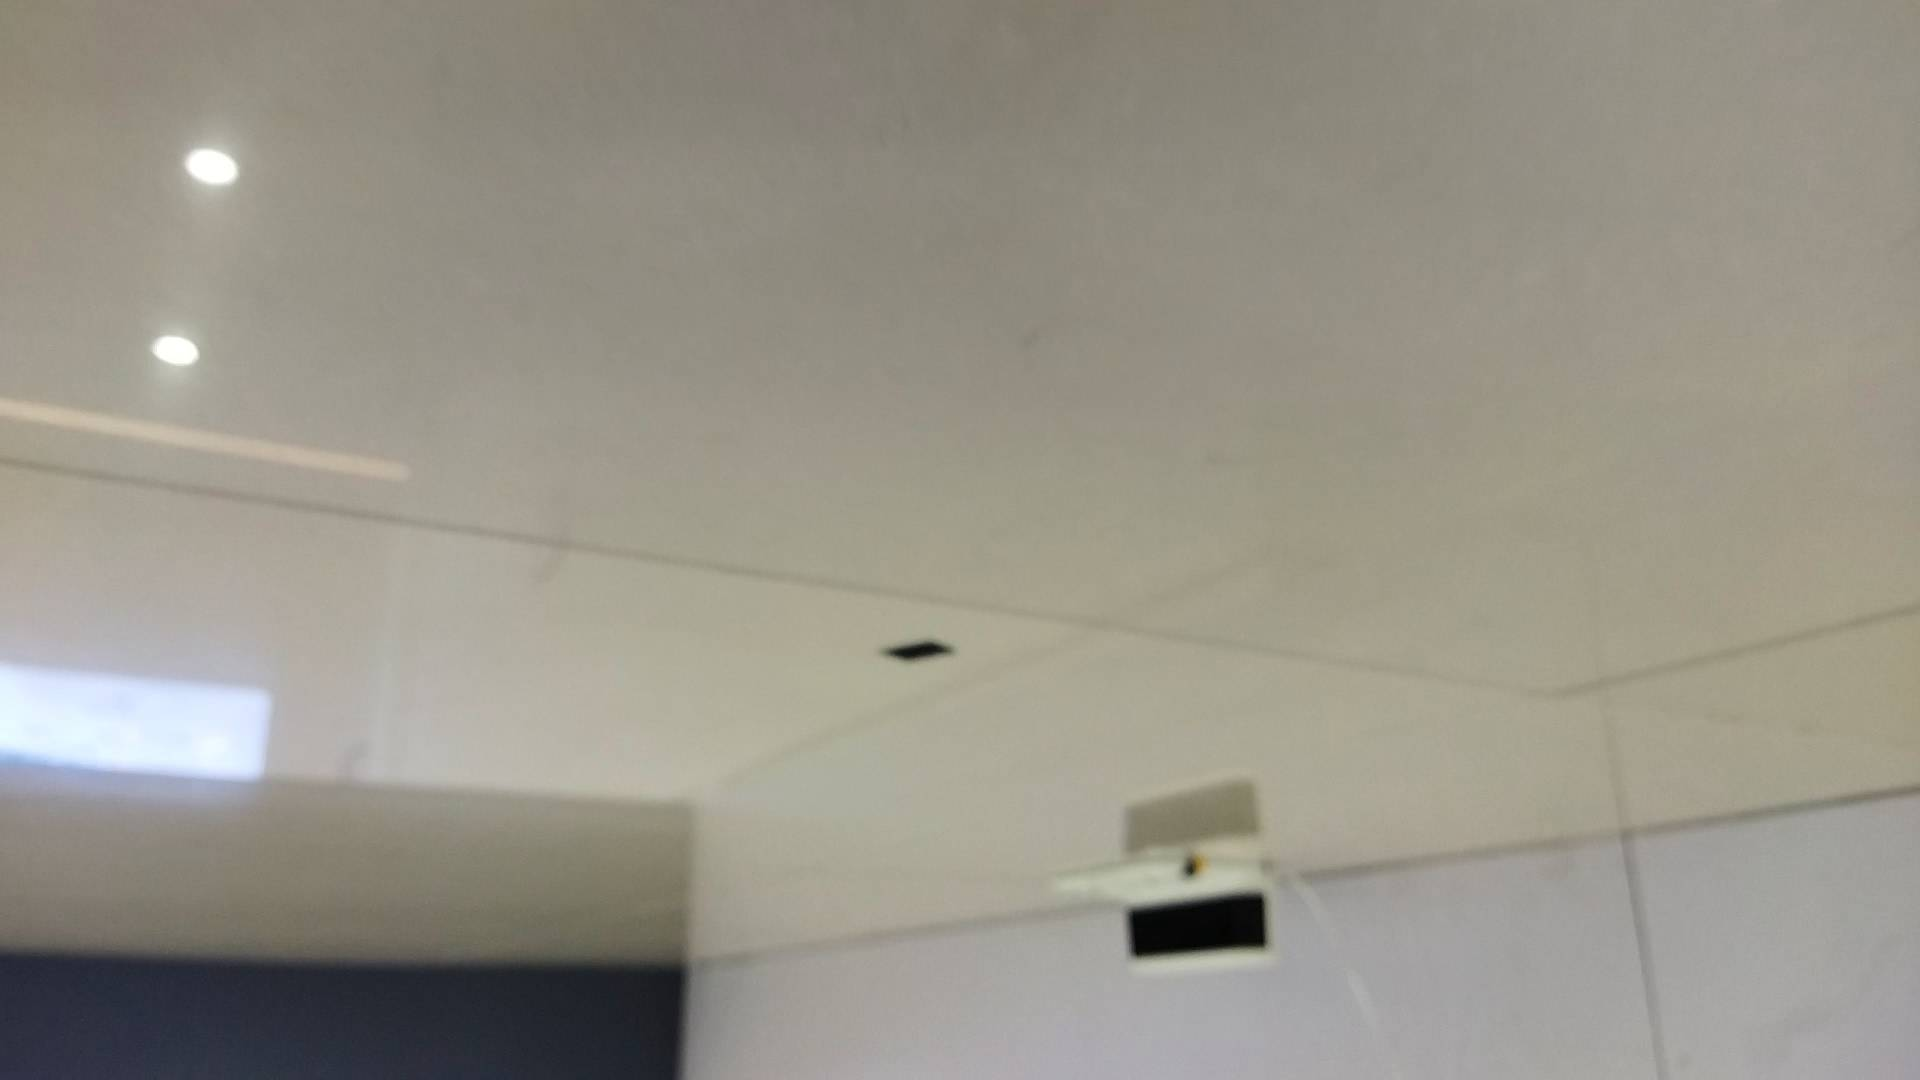recharge seat: (1051, 851, 1288, 978)
